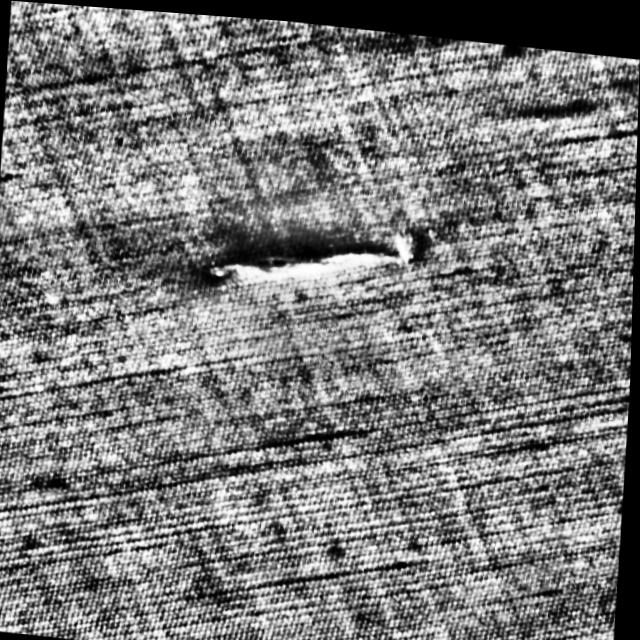Stitch: (192, 202, 427, 305)
